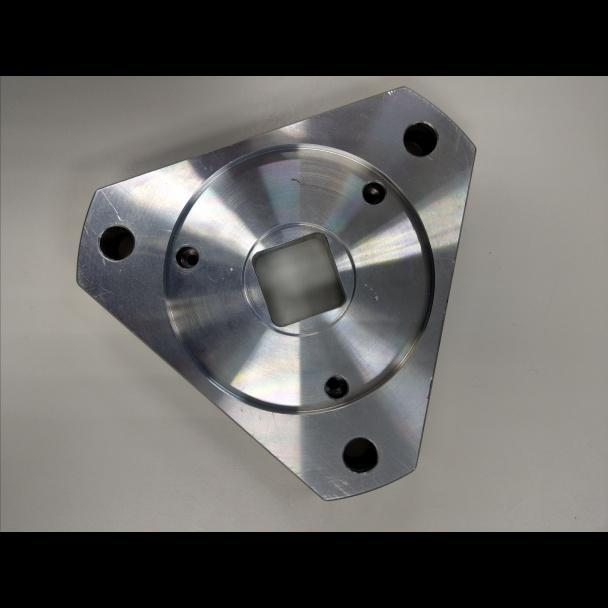hole: (340, 434, 380, 476), (96, 222, 136, 264), (400, 118, 440, 158), (173, 243, 200, 271), (322, 374, 349, 401), (360, 179, 387, 206)
